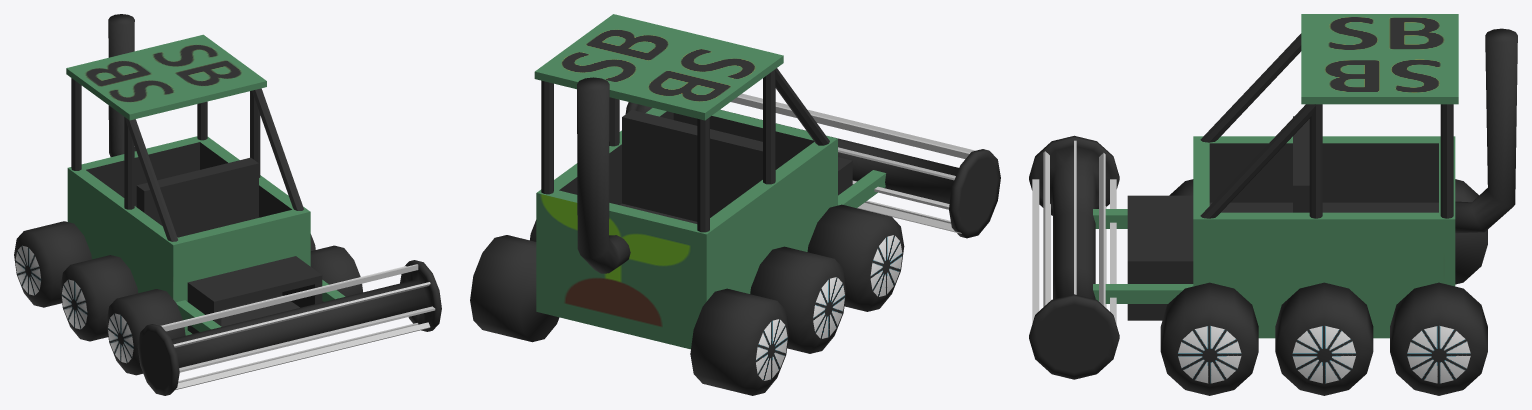
The model's file is harvester.fbx.
3 renders of one model, left to right at view 1: azimuth 30°, elevation 25°; view 2: azimuth 150°, elevation 25°; view 3: azimuth 270°, elevation 25°, orthographic. The views are drawn at different scales.
Parts seen in each view (by area): view 1: Cube, Blades, Wheels, Cube.001, Poles, chymney, Cube.002; view 2: Cube, Wheels, Cube.001, Blades, chymney, Poles, Cube.002; view 3: Cube, Wheels, Blades, Cube.001, Poles, chymney, Cube.002.
Boxes of the visible parts, x1,y1,x2,y2 form: Cube: [67, 136, 322, 335]; Blades: [137, 260, 441, 395]; Wheels: [14, 221, 362, 375]; Cube.001: [66, 34, 266, 120]; Poles: [71, 78, 303, 241]; chymney: [108, 14, 135, 156]; Cube.002: [176, 280, 345, 331]; Cube: [536, 108, 852, 349]; Wheels: [470, 204, 904, 395]; Cube.001: [534, 14, 783, 120]; Blades: [625, 93, 1000, 238]; chymney: [577, 77, 630, 273]; Poles: [541, 68, 829, 232]; Cube.002: [838, 170, 886, 208]; Cube: [1127, 116, 1455, 338]; Wheels: [1160, 179, 1487, 395]; Blades: [1029, 135, 1119, 379]; Cube.001: [1301, 14, 1458, 104]; Poles: [1200, 33, 1453, 218]; chymney: [1455, 28, 1517, 233]; Cube.002: [1093, 209, 1193, 303].
Size of the model in its own units: 1170 by 1001 by 1493.
